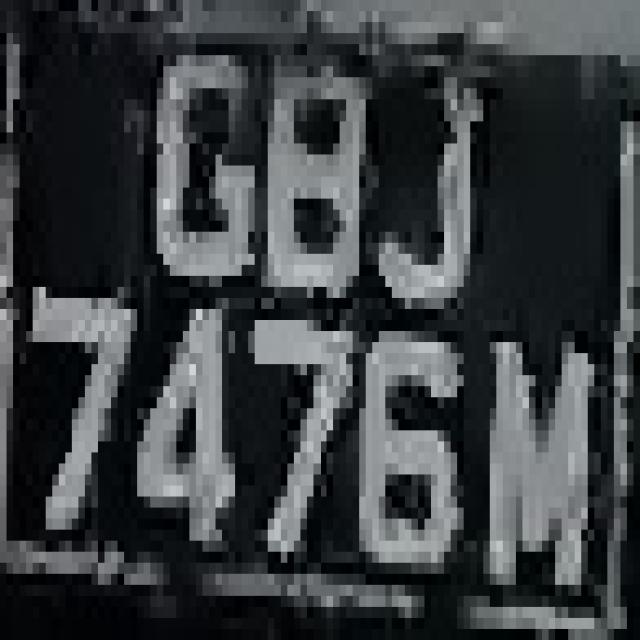4: (124, 276, 229, 596)
6: (366, 320, 476, 574)
7: (222, 287, 353, 574), (26, 254, 137, 552)
B: (248, 55, 366, 309)
G: (144, 22, 268, 331)
J: (366, 44, 503, 320)
M: (484, 298, 620, 607)
